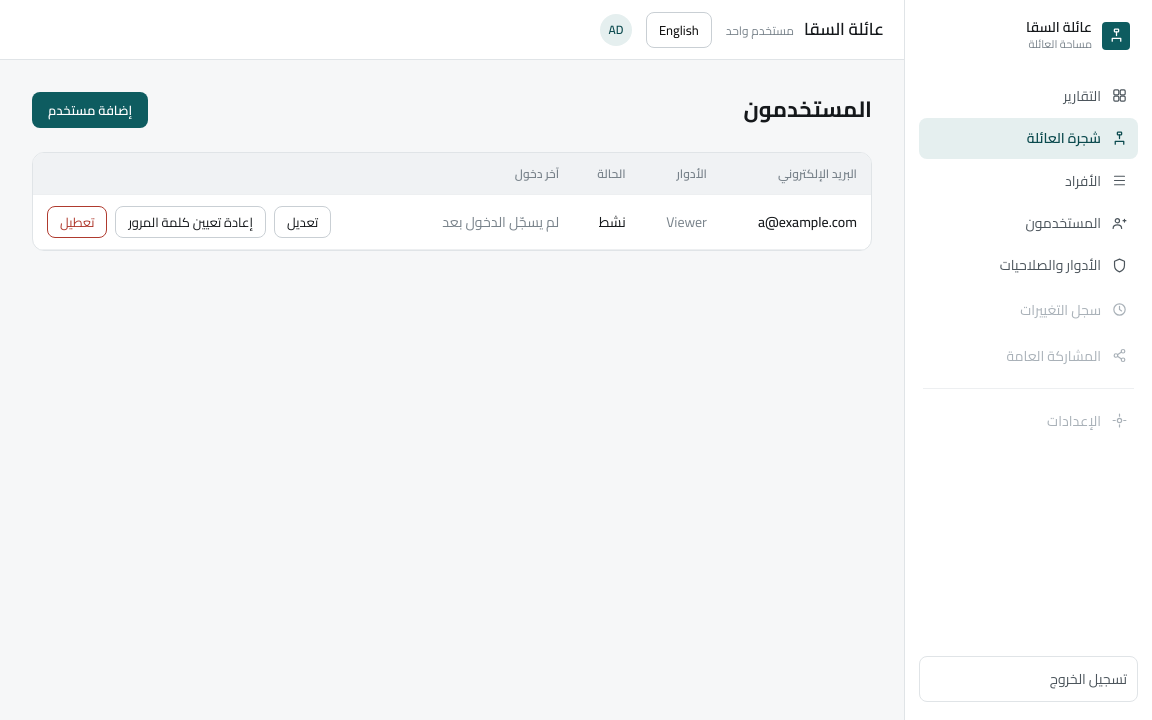
Test case: UsersPage › shows a translated refusal when deactivation is rejected
The image size is (1152, 720).
Check: the text "a@example.com" is shown, box [721,195,871,250]
Click the button "تعطيل" at (77, 222), box [47,206,107,238]
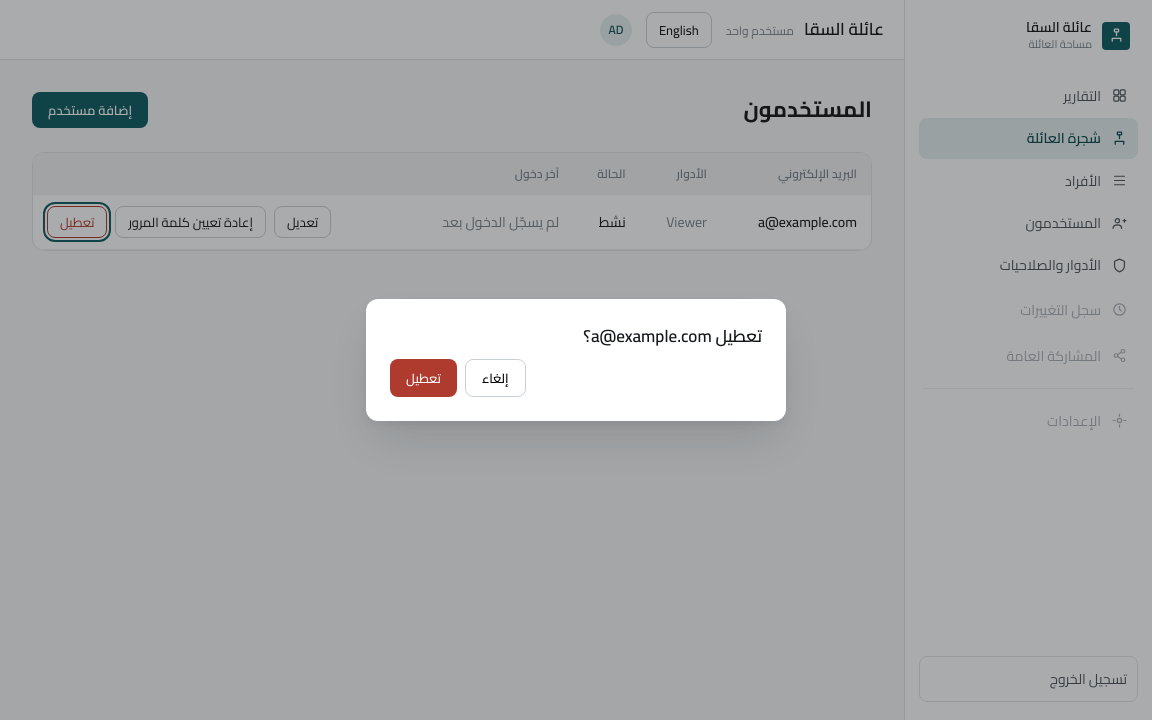
Click the button "تعطيل" at (424, 378), box [390,359,457,397]
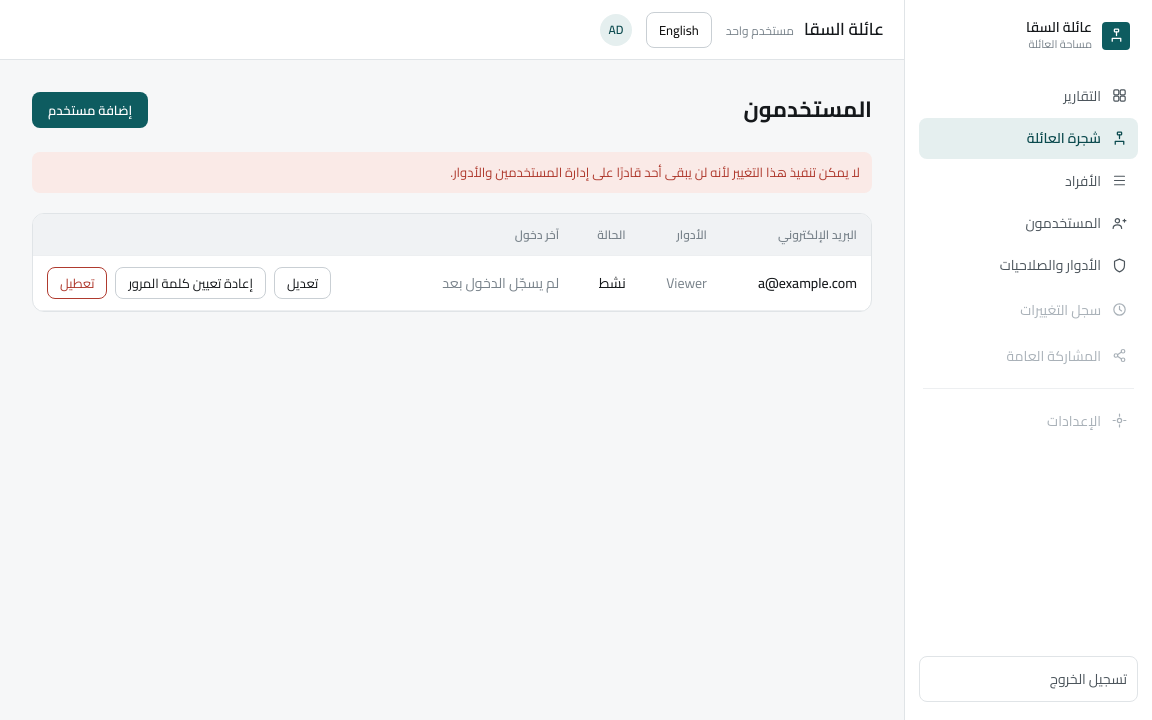
Check: the text "لا يمكن تنفيذ هذا التغيير لأنه لن يبقى أحد قادرًا على إدارة المستخدمين والأدوار." is shown, box [32,152,872,193]
